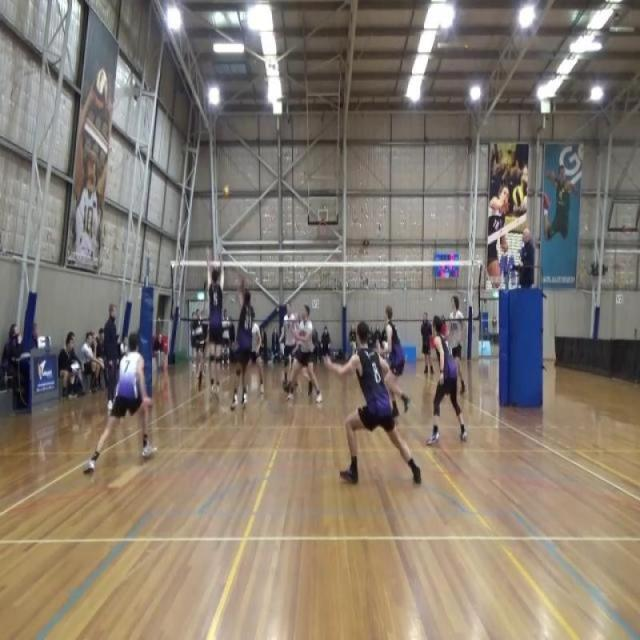volleyball: (92, 66, 109, 111), (512, 184, 524, 208), (222, 183, 231, 200)
